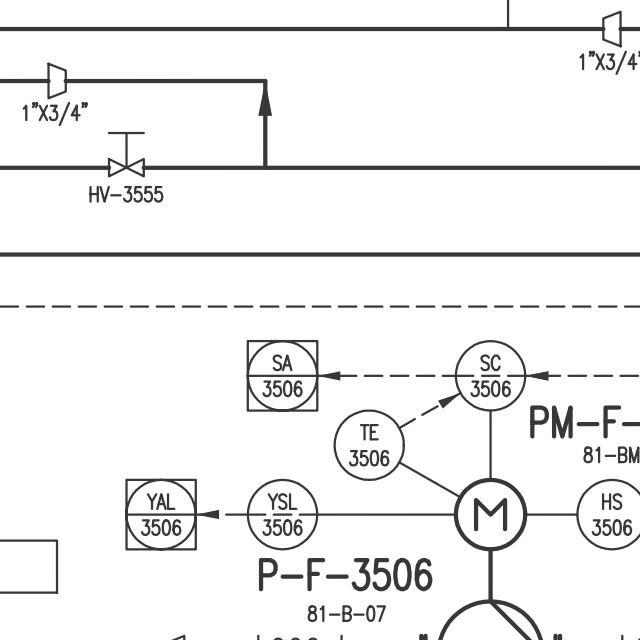HVWT: (102, 125, 152, 181)
M: (453, 475, 527, 552)
SP: (43, 60, 73, 101), (598, 6, 627, 48)
